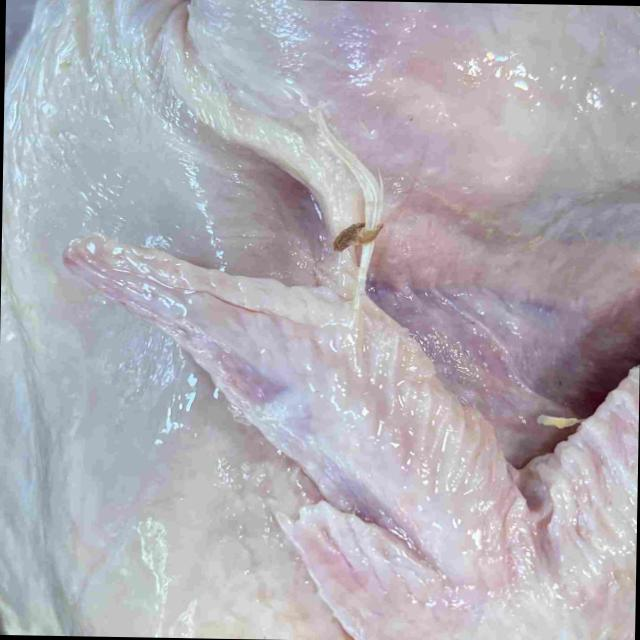leg: (185, 0, 640, 269)
wing: (57, 238, 639, 640)
